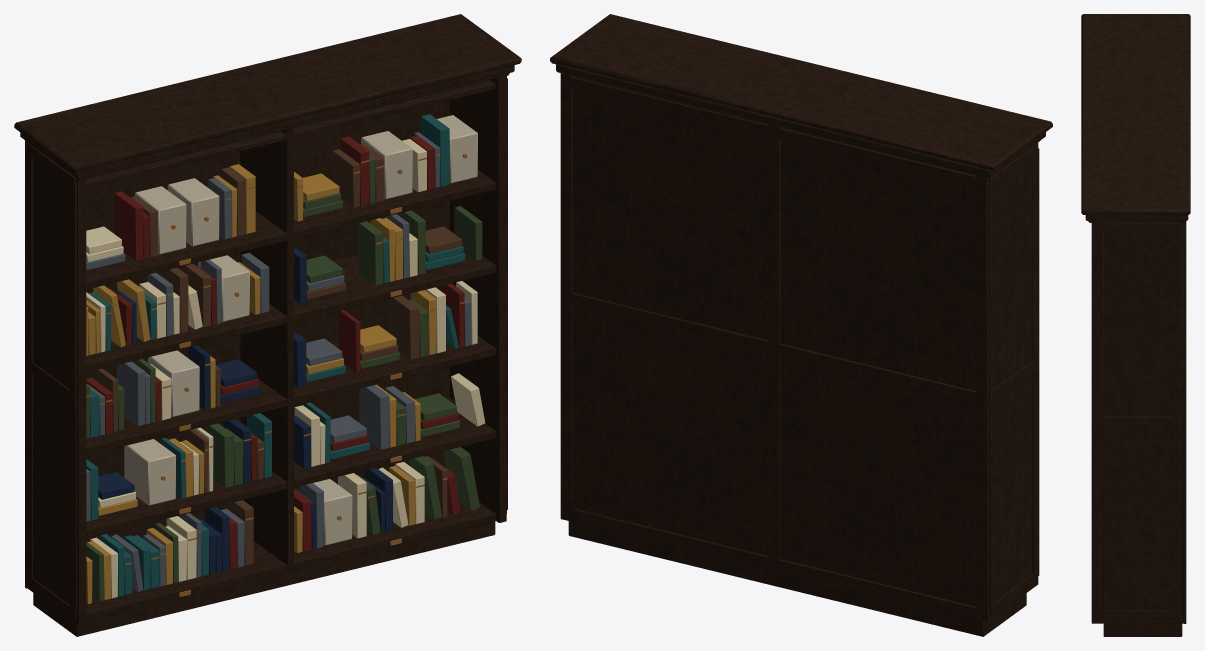
File: archive-bookcase.lod0.glb
3 renders of one model, left to right at view 1: azimuth 30°, elevation 25°; view 2: azimuth 150°, elevation 25°; view 3: azimuth 270°, elevation 25°, orthographic. The views are drawn at different scales.
Visible parts, largest first — view 1: archive_bookcase_Timber • oiled walnut, archive_bookcase_Trim • places palette; view 2: archive_bookcase_Timber • oiled walnut; view 3: archive_bookcase_Timber • oiled walnut.
Part boxes in pixels (x1,y1,x2,y2): archive_bookcase_Timber • oiled walnut: (14,14,521,636); archive_bookcase_Trim • places palette: (86,114,485,604); archive_bookcase_Timber • oiled walnut: (550,14,1052,636); archive_bookcase_Timber • oiled walnut: (1081,14,1190,636).
Size of the model in its own units: 2.72 by 2.8 by 0.64.
Materials: 2 (2 with a texture image).
